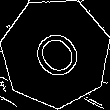O_SE: (23, 19, 88, 86)
